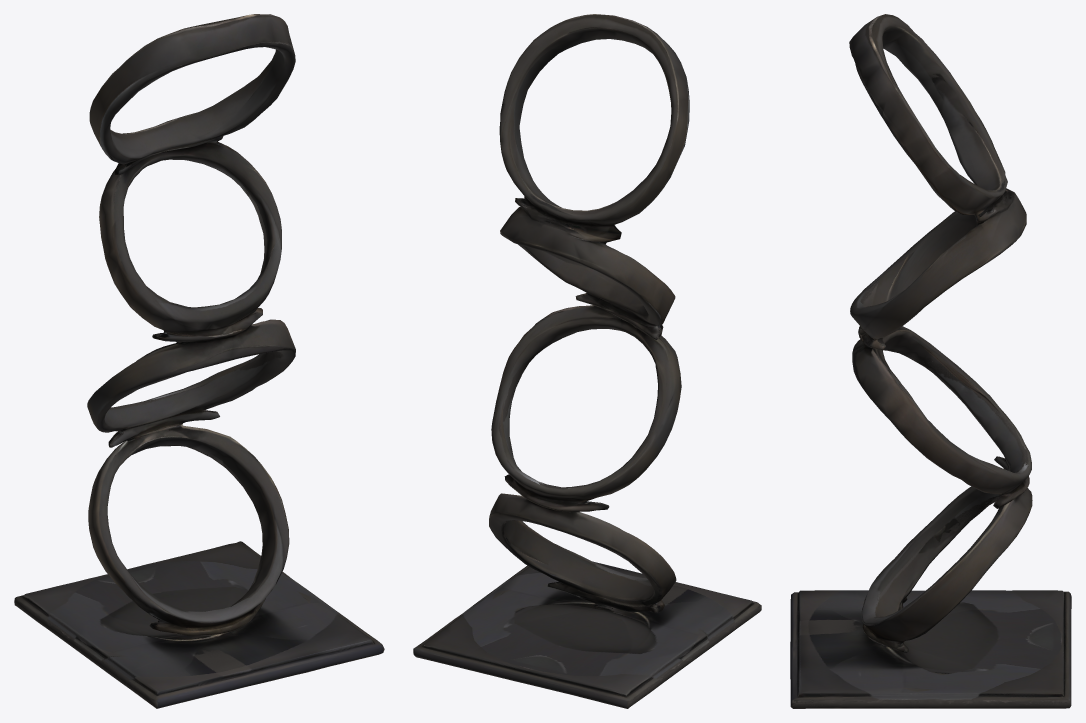
The model's file is estatuanueva2.obj.
3 views of the same model, side by side, from view 1: azimuth 30°, elevation 25°; view 2: azimuth 150°, elevation 25°; view 3: azimuth 270°, elevation 25° (orthographic). The views are drawn at different scales.
Parts seen in each view (by area): view 1: estatuanueva2; view 2: estatuanueva2; view 3: estatuanueva2.
Boxes of the visible parts, <box> form: estatuanueva2: <box>14,14,384,708</box>; estatuanueva2: <box>413,14,761,708</box>; estatuanueva2: <box>790,14,1071,708</box>.
Size of the model in its own units: 4.26 by 11.19 by 4.59.
1 material, 1 textured.
